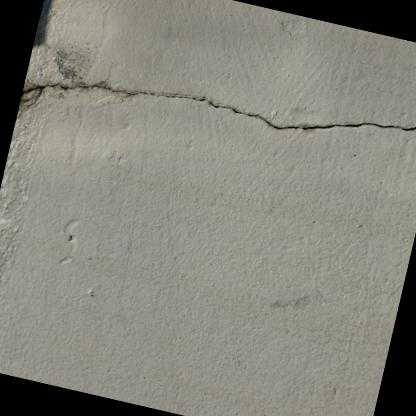crack: (21, 84, 416, 131)
